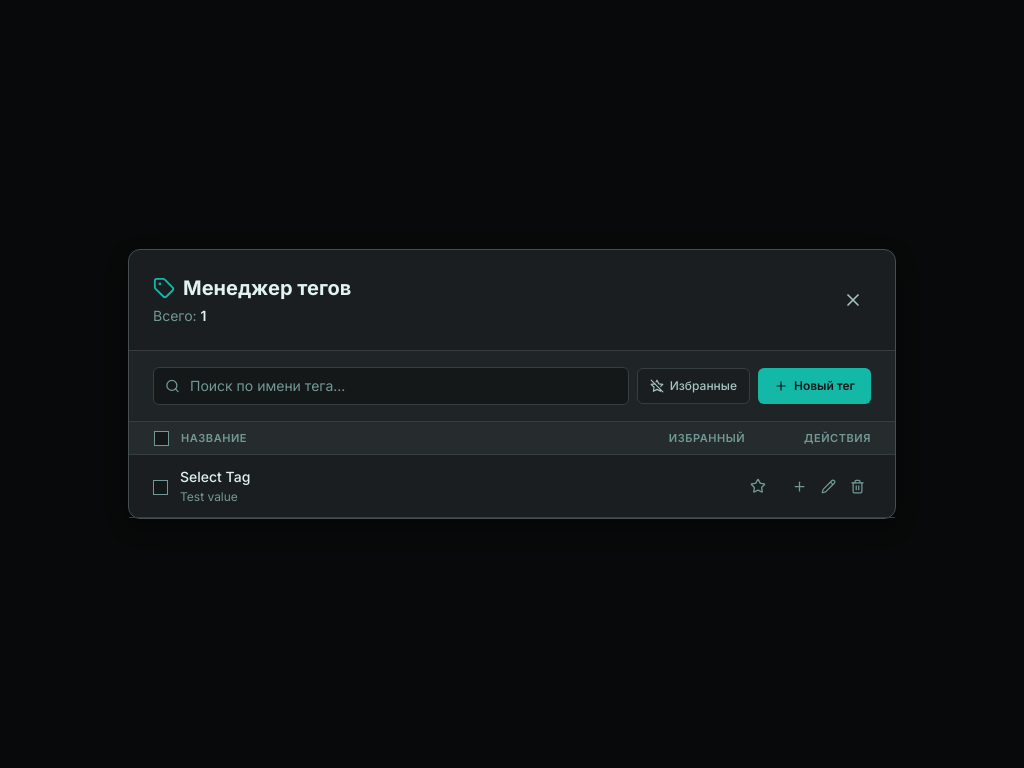
Test case: TagManagerModal › Выбор тегов › выбирает и снимает выбор с тега
Check: the text "Select Tag" is shown, box [180,468,250,485]
Click the checkbox named "Выделить" at {"x": 160, "y": 488}, box [153,480,168,495]
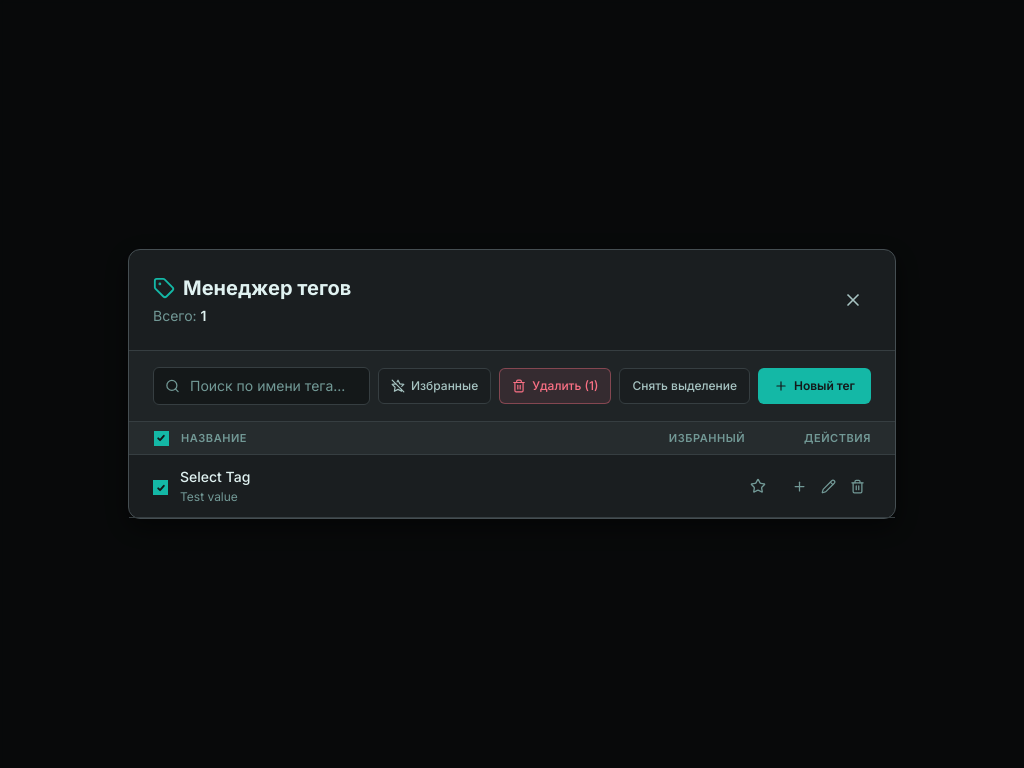
Check: the button "Удалить (1)" is shown, box [499,368,611,404]
Click the checkbox named "Снять выделение" at {"x": 160, "y": 488}, box [153,480,168,495]
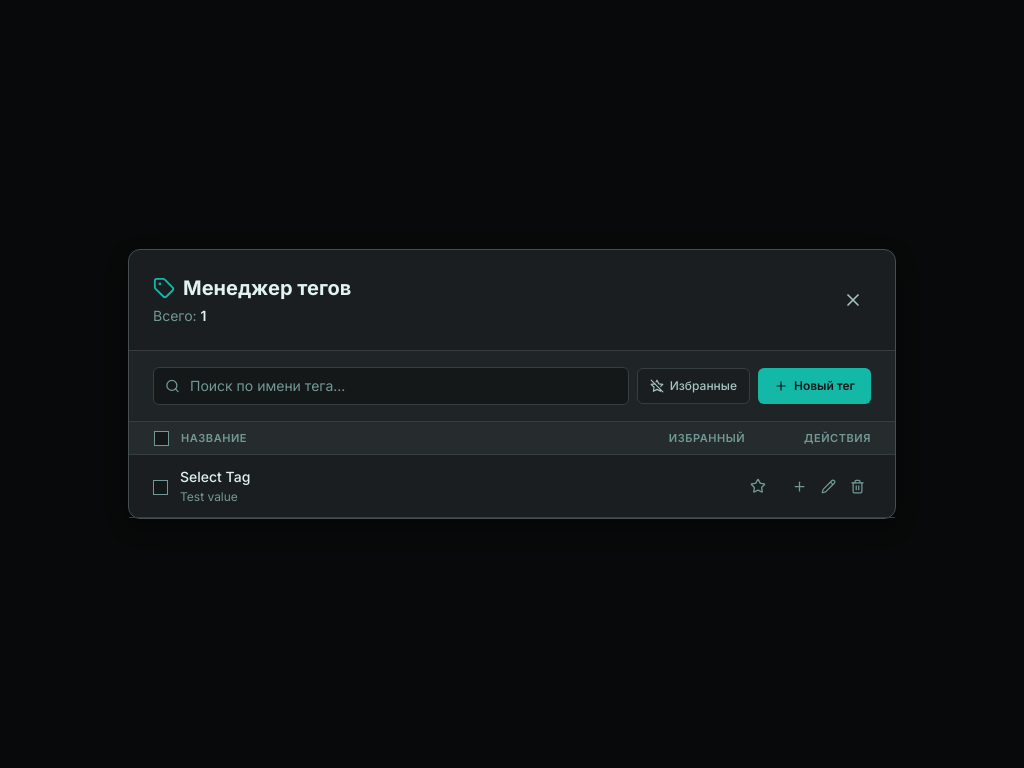
Check: the button "Удалить (1)" is gone
